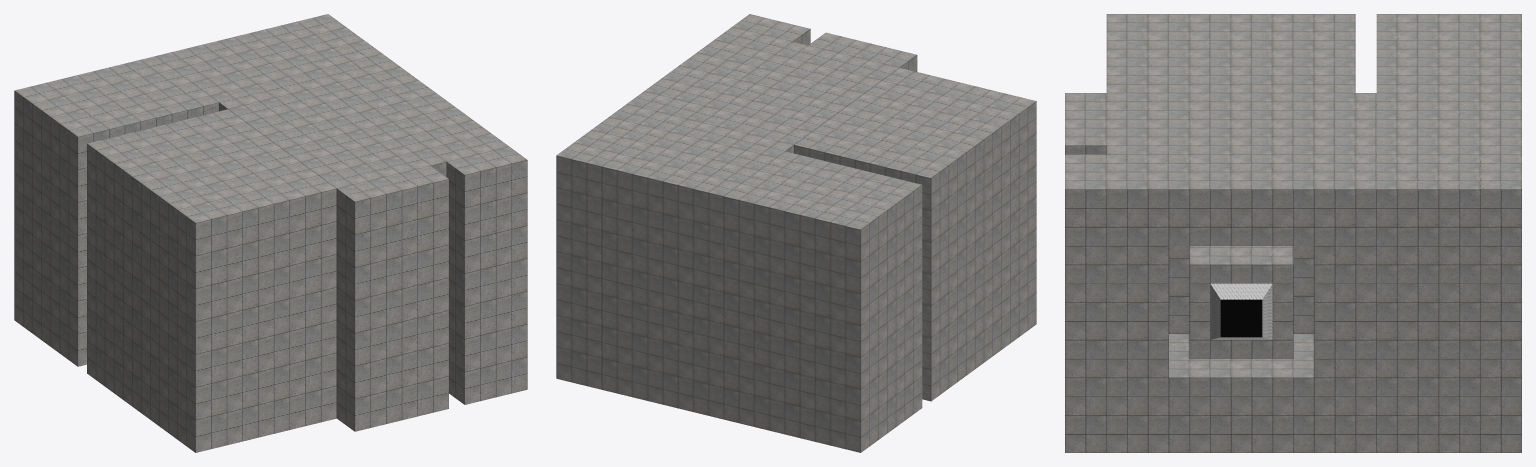
The model's file is PlayUpGrp1.dae.
3 renders of one model, left to right at view 1: azimuth 30°, elevation 25°; view 2: azimuth 150°, elevation 25°; view 3: azimuth 270°, elevation 25°, orthographic. The views are drawn at different scales.
Parts seen in each view (by area): view 1: mesh0%root%0%; view 2: mesh0%root%0%; view 3: mesh0%root%0%, mesh0%root%1%, mesh0%root%2%.
Part boxes in pixels (x1,y1,x2,y2): mesh0%root%0%: (14,14,527,452); mesh0%root%0%: (556,14,1036,452); mesh0%root%0%: (1065,14,1521,452); mesh0%root%1%: (1210,283,1272,339); mesh0%root%2%: (1220,299,1262,337).
Size of the model in its own units: 20.75 by 14 by 22.
